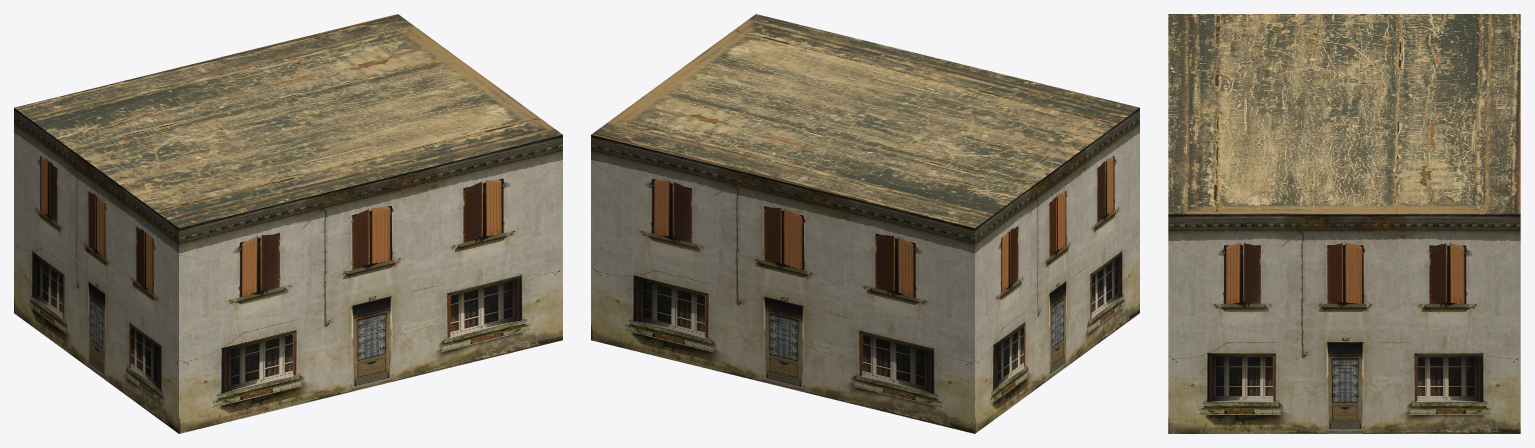
File: BagBuilding19_0.fbx
3 views of the same model, side by side, from view 1: azimuth 30°, elevation 25°; view 2: azimuth 150°, elevation 25°; view 3: azimuth 270°, elevation 25° (orthographic). The views are drawn at different scales.
Visible parts, largest first — view 1: box0, boxb0; view 2: box0, boxb0; view 3: box0, boxb0.
Boxes of the visible parts, left/top/right/bottom form: box0: left=14, top=108, right=562, bottom=433; boxb0: left=14, top=14, right=562, bottom=228; box0: left=591, top=108, right=1139, bottom=433; boxb0: left=591, top=14, right=1139, bottom=228; box0: left=1168, top=214, right=1520, bottom=433; boxb0: left=1168, top=14, right=1520, bottom=214.
Bounding box in the file's own units: 22.53 × 11.53 × 16.76.
